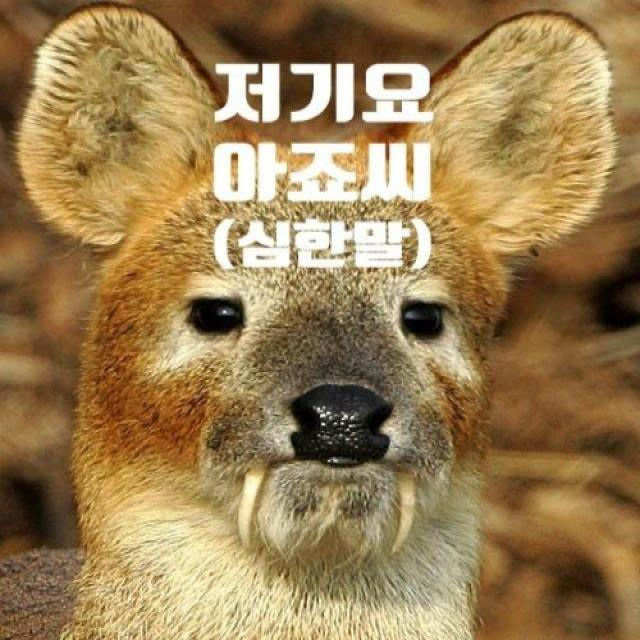deer: (22, 6, 627, 640)
